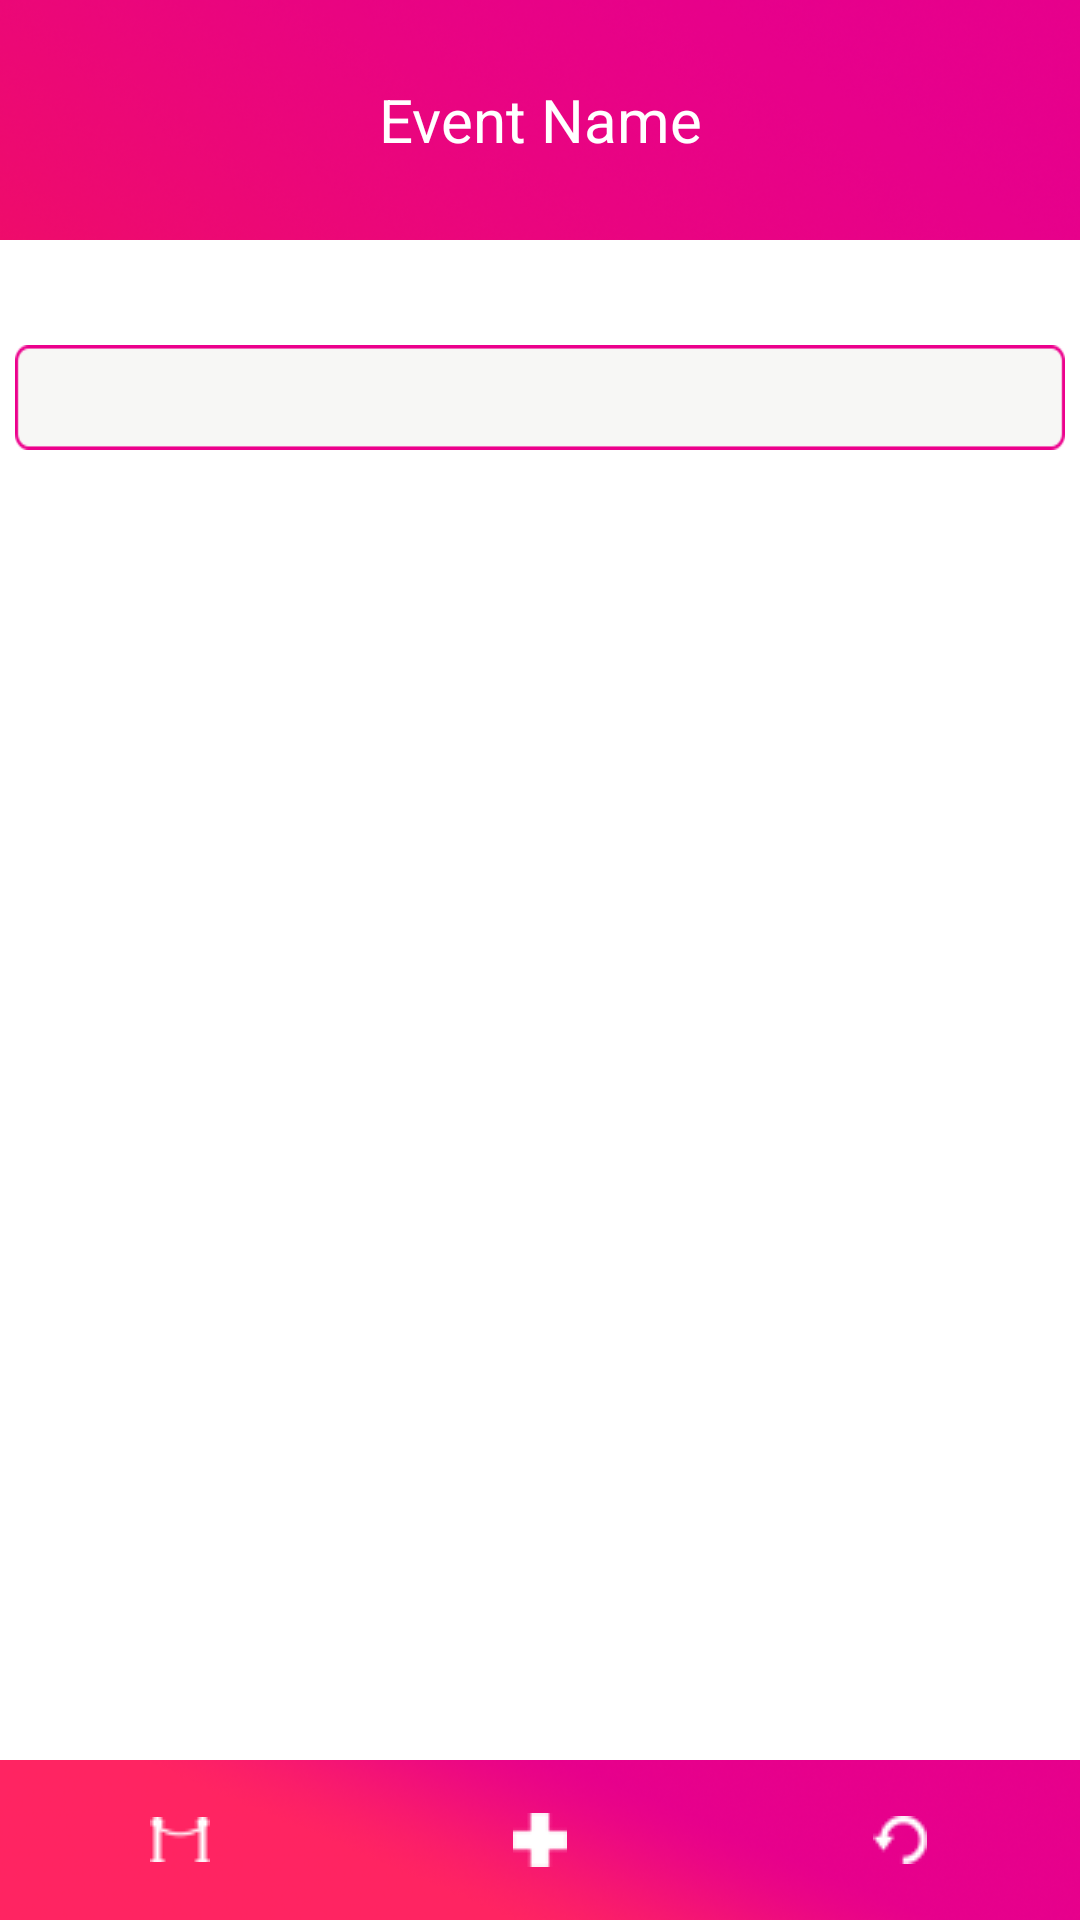

Screen size 1080*1920. Icon name, then its box in pixels as box=[x1, y1, x2, y2]:
refresh: box=[873, 1816, 927, 1864]
